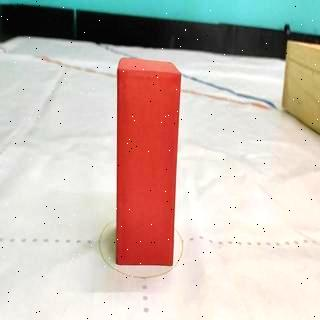redbox: (116, 56, 182, 266)
